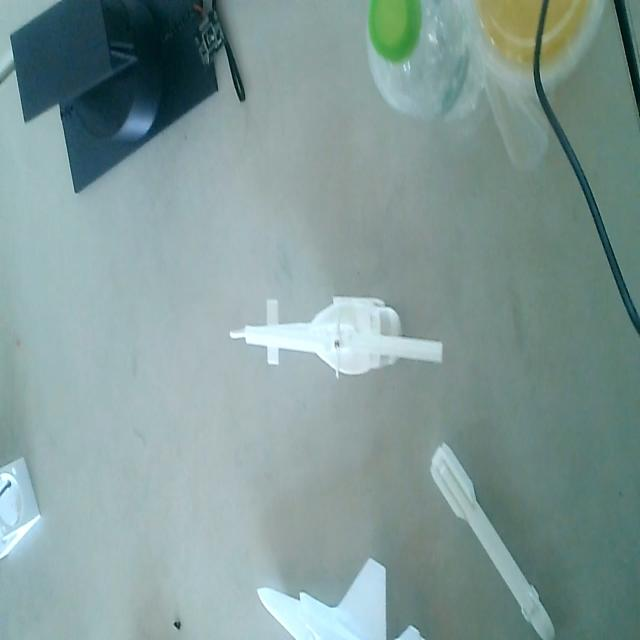Helicopter: (232, 284, 443, 394)
Rocket: (428, 431, 558, 640)
